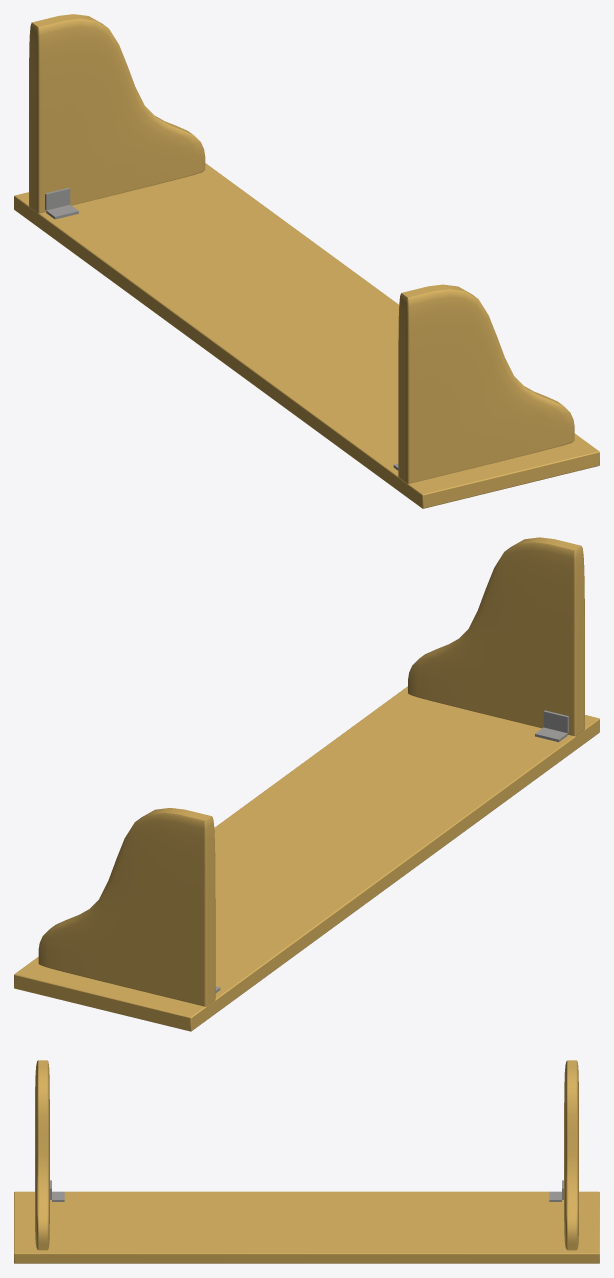
File: wandregal.fbx
3 renders of one model, top to bottom at view 1: azimuth 30°, elevation 25°; view 2: azimuth 150°, elevation 25°; view 3: azimuth 270°, elevation 25°, orthographic. The views are drawn at different scales.
Parts seen in each view (by area): view 1: platte, Subdivision_Surface_0, Subdivision_Surface_1; view 2: platte, Subdivision_Surface_1, Subdivision_Surface_0; view 3: platte, Subdivision_Surface_0, Subdivision_Surface_1.
Part boxes in pixels (x1,y1,x2,y2): platte: [14, 163, 599, 508]; Subdivision_Surface_0: [398, 284, 574, 483]; Subdivision_Surface_1: [29, 14, 205, 213]; platte: [14, 686, 599, 1031]; Subdivision_Surface_1: [38, 808, 215, 1006]; Subdivision_Surface_0: [408, 537, 584, 736]; platte: [14, 1191, 599, 1263]; Subdivision_Surface_0: [35, 1060, 49, 1250]; Subdivision_Surface_1: [564, 1060, 578, 1250].
Size of the model in its own units: 200 by 214 by 797.
